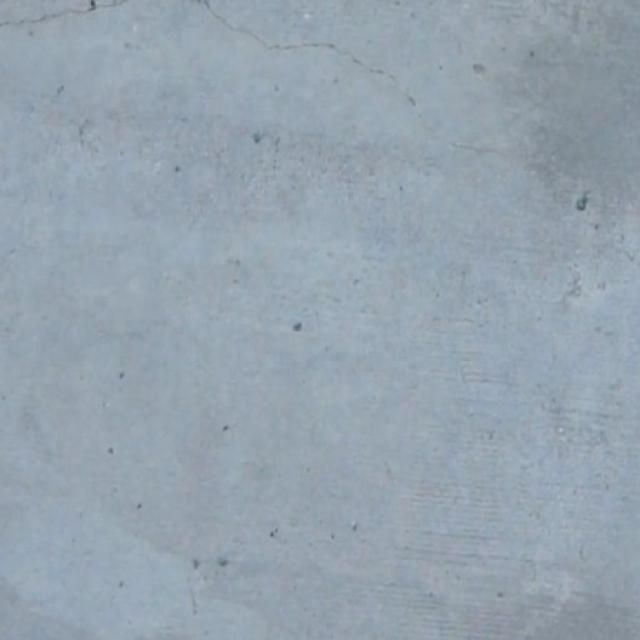Horizontal Crack: (0, 0, 421, 122)
